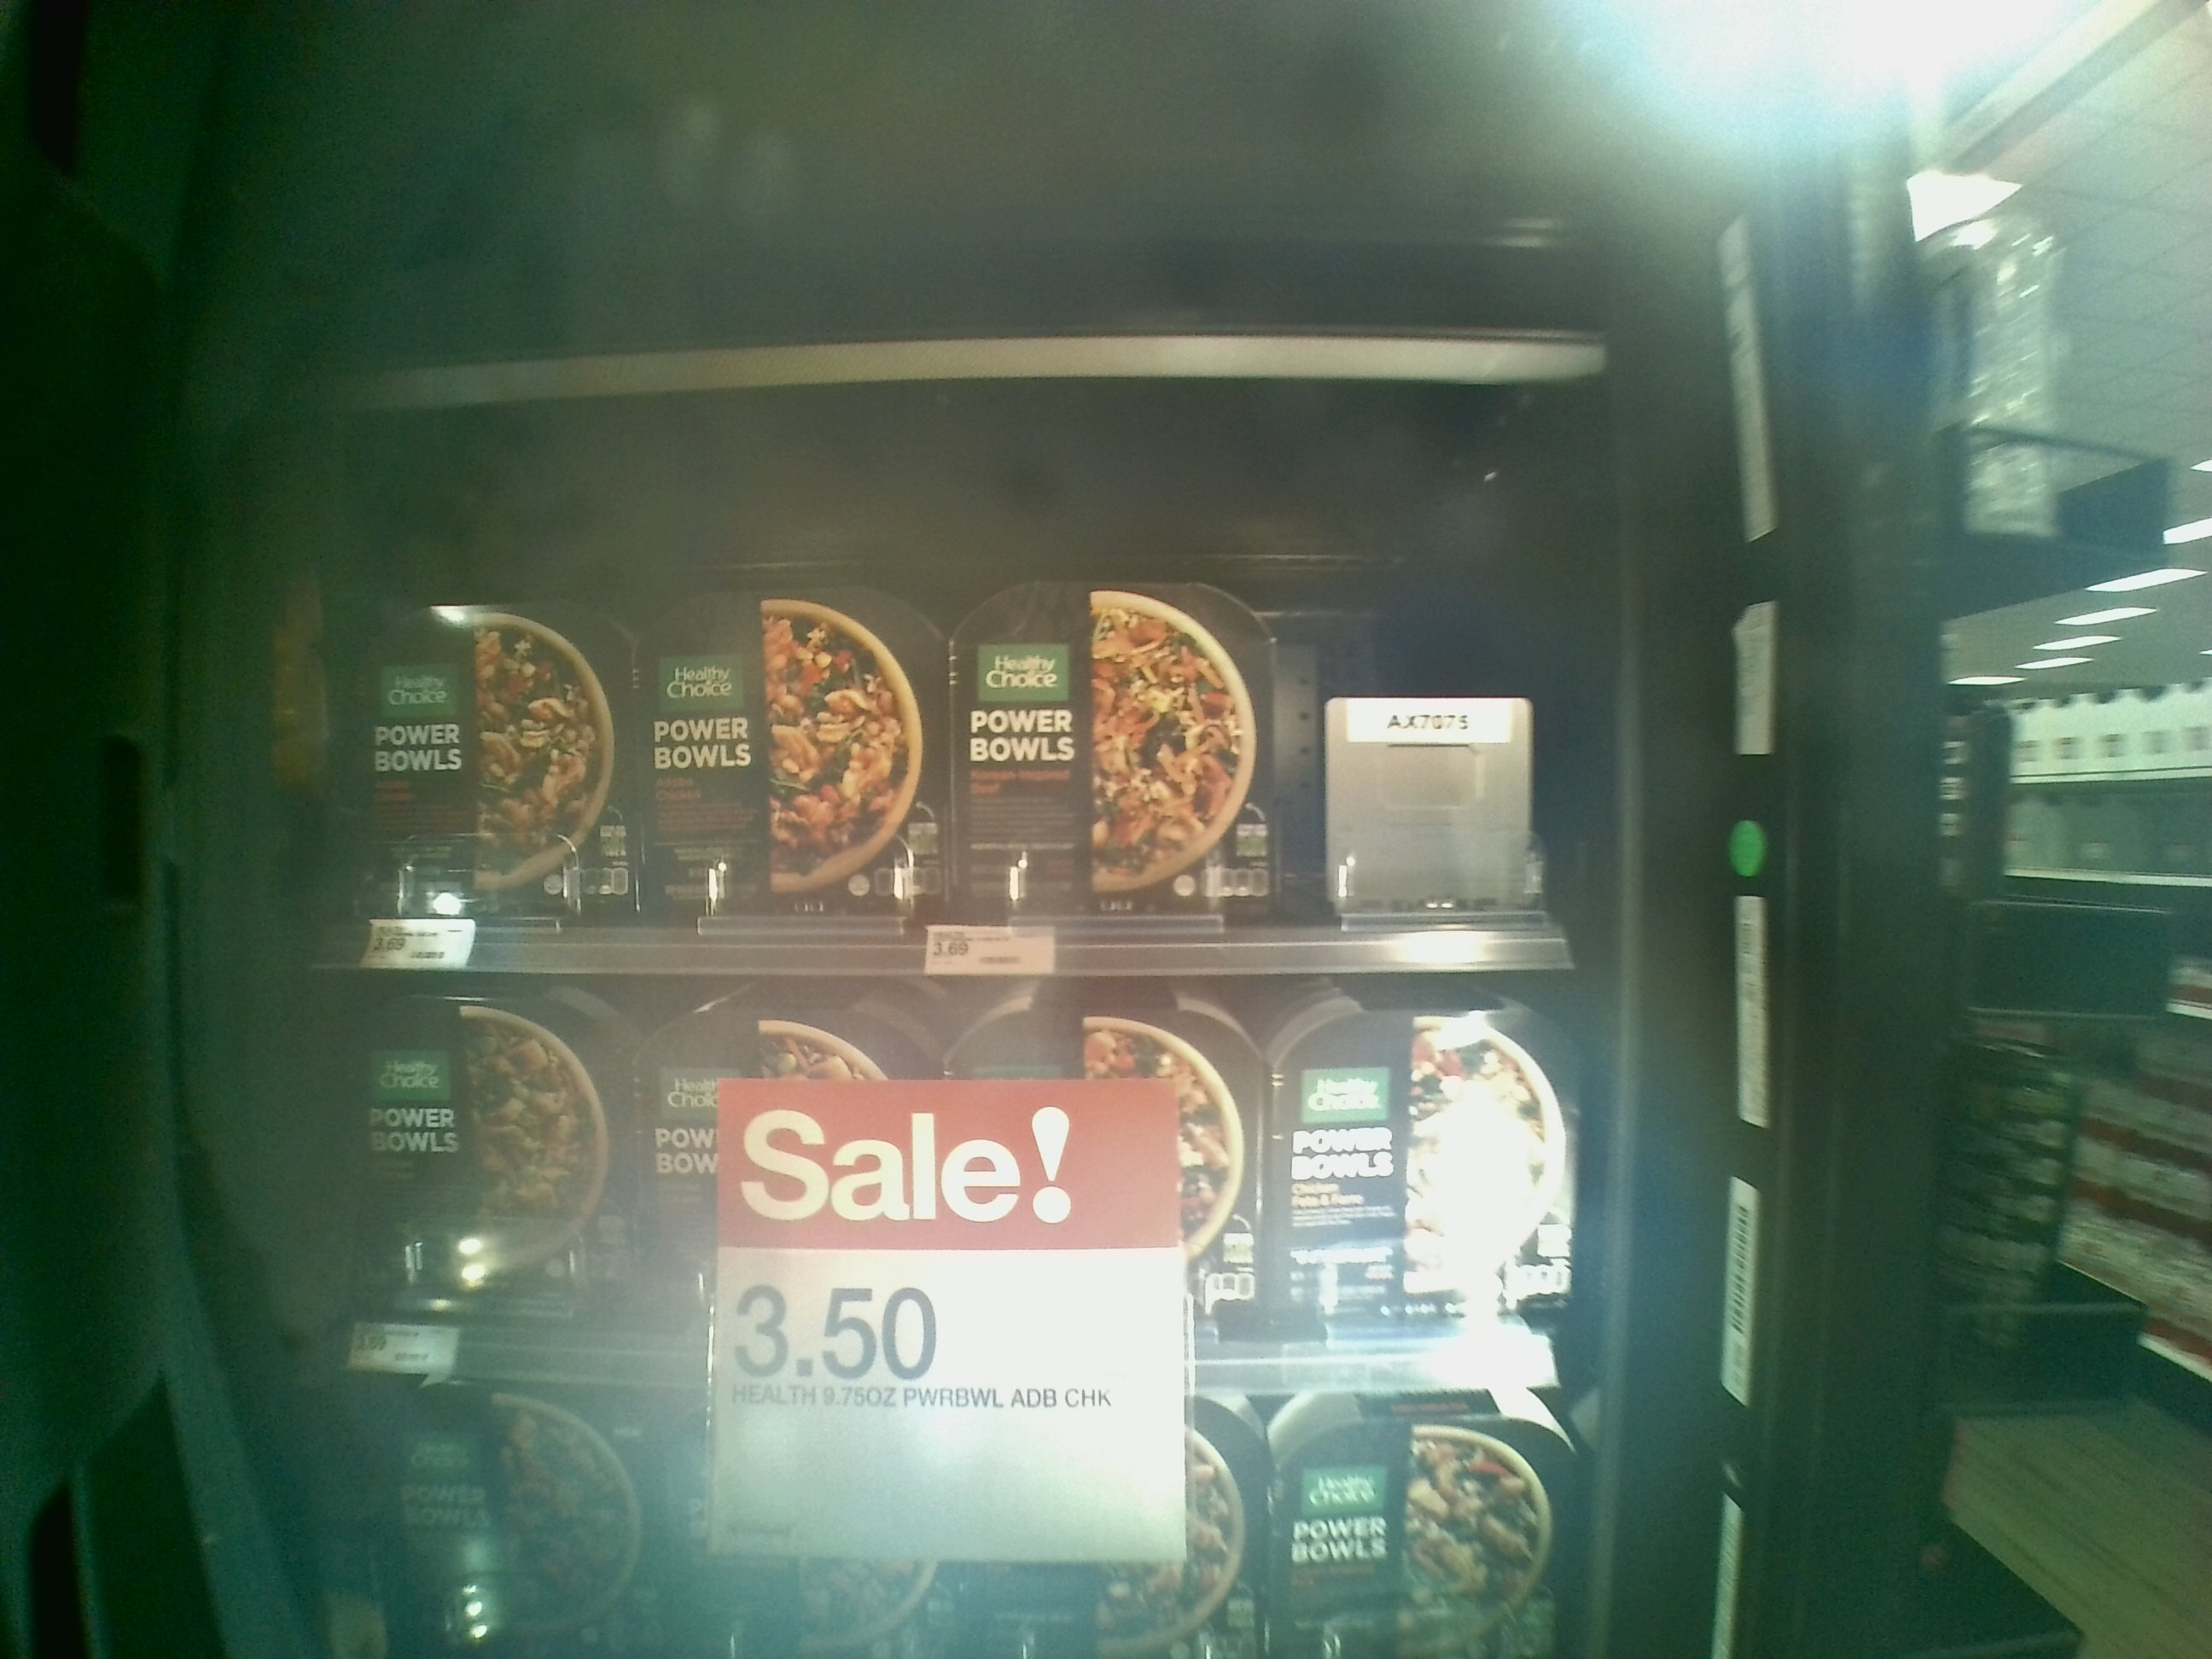shelf: (298, 380, 1576, 969), (298, 957, 1566, 1405)
